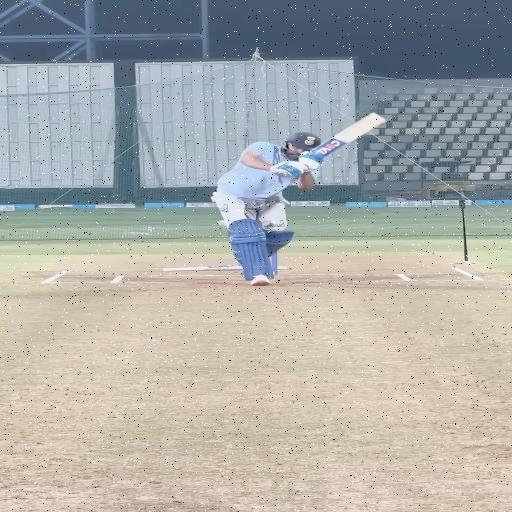Cricket bat: (312, 113, 386, 158)
